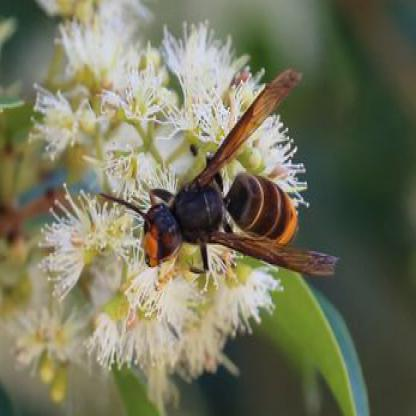Asian Hornet: (111, 63, 337, 285)
